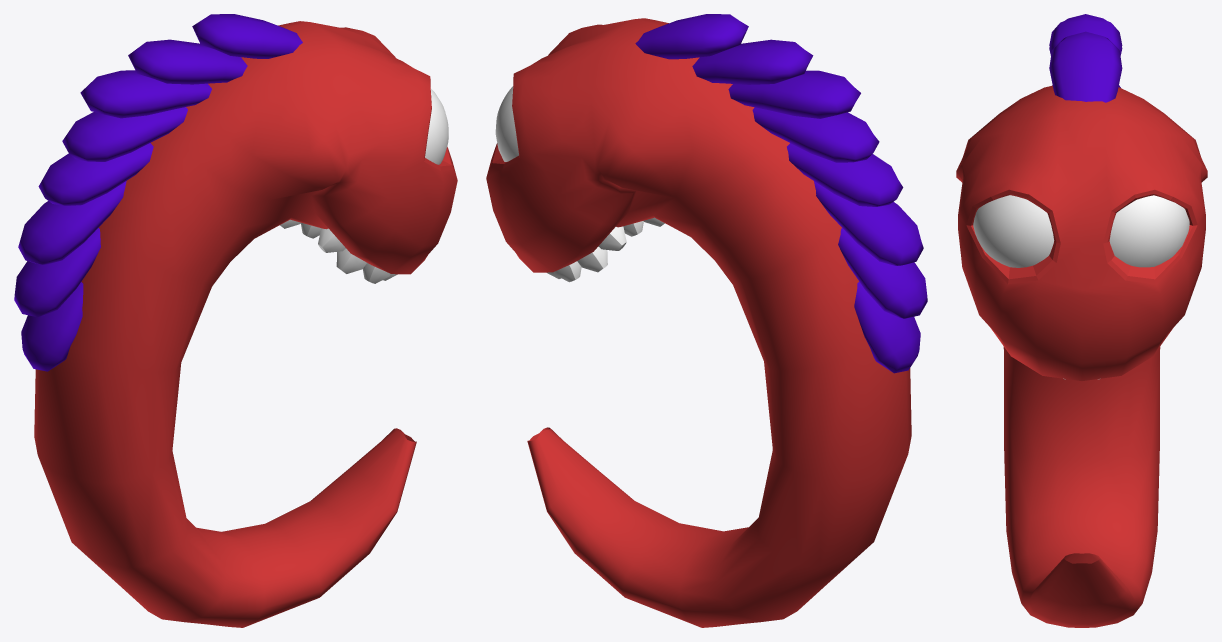
3 views of the same model, side by side, from view 1: azimuth 30°, elevation 25°; view 2: azimuth 150°, elevation 25°; view 3: azimuth 270°, elevation 25° (orthographic). The views are drawn at different scales.
Visible parts, largest first — view 1: PM3D_Skin_ZSphere1, Box024, Box002, Sphere003; view 2: PM3D_Skin_ZSphere1, Box024, Box002, Sphere060; view 3: PM3D_Skin_ZSphere1, Box024, Sphere003, Sphere060.
Boxes of the visible parts, box(x1,y1,x2,y2) form: PM3D_Skin_ZSphere1: box(34, 21, 457, 627); Box024: box(14, 14, 302, 371); Box002: box(280, 219, 397, 283); Sphere003: box(425, 88, 448, 164); PM3D_Skin_ZSphere1: box(486, 18, 911, 627); Box024: box(635, 14, 927, 373); Box002: box(547, 217, 664, 282); Sphere060: box(495, 86, 518, 161); PM3D_Skin_ZSphere1: box(956, 85, 1207, 627); Box024: box(1049, 14, 1122, 102); Sphere003: box(973, 195, 1054, 267); Sphere060: box(1109, 195, 1189, 267).
Bounding box in the file's own units: 0.118 × 0.1622 × 0.0654.
